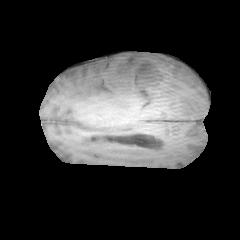glioma: (102, 60, 177, 107)
